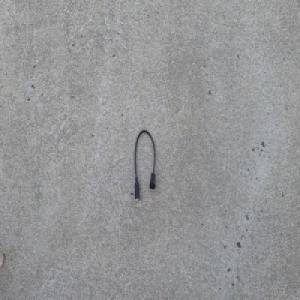Wire: (134, 128, 156, 201)
